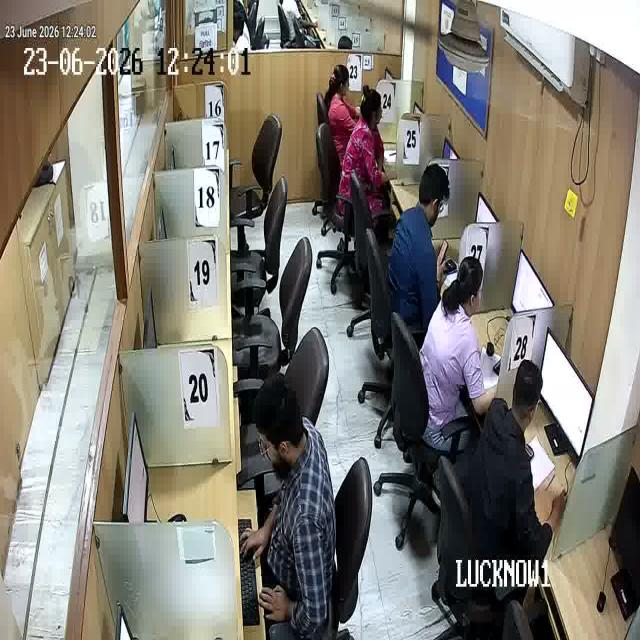phone: (434, 232, 453, 272)
